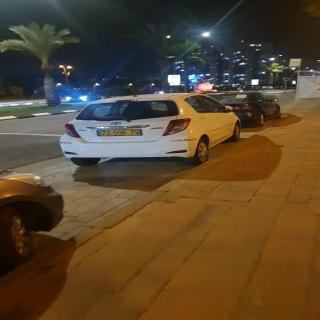LicensePlate: (101, 129, 140, 135)
